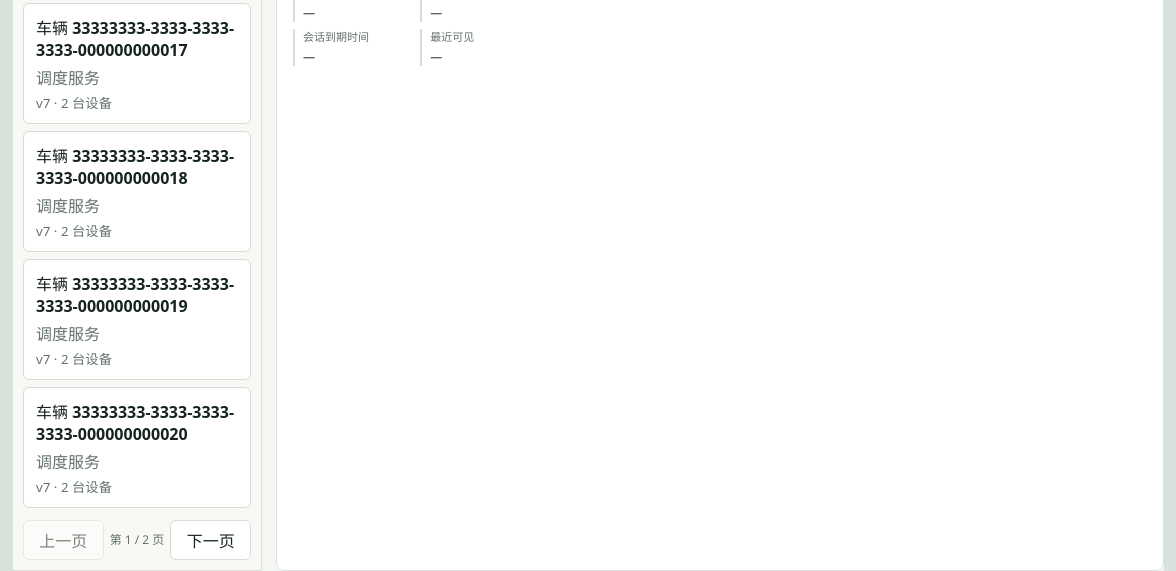
Test case: OnboardSystemManagementPage › exposes the twenty-first system through the existing page API
(page scrolled)
Check: the button "上一页" is disabled, box x1=23 y1=520 x2=104 y2=560
Click the button "下一页" at (211, 540), box x1=170 y1=520 x2=251 y2=560
(page scrolled)
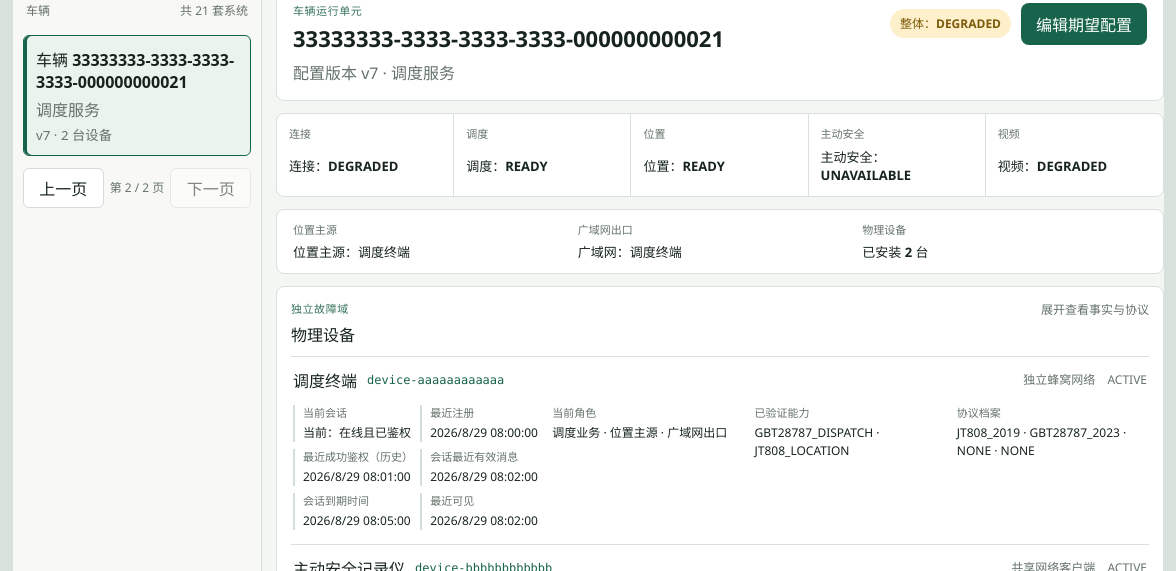
Check: the text "第 2 / 2 页" is shown, box x1=110 y1=179 x2=164 y2=196
Check: the button "上一页" is enabled, box x1=23 y1=168 x2=104 y2=208
Check: the button "下一页" is disabled, box x1=170 y1=168 x2=251 y2=208
